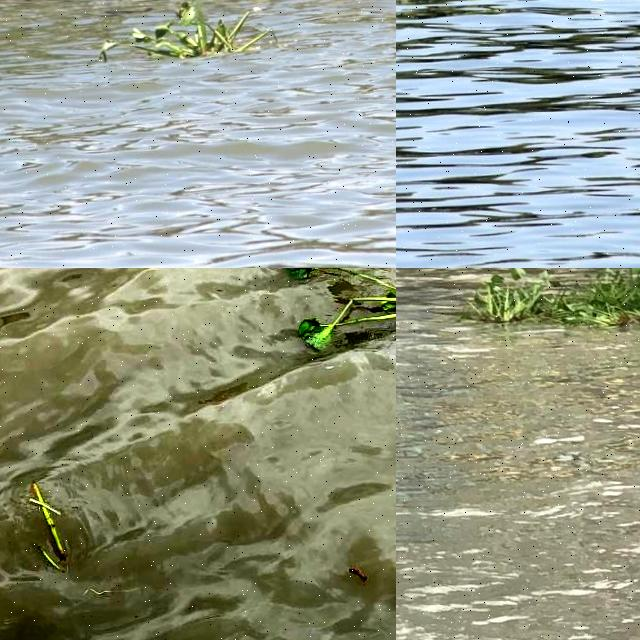water-hyacinth: (92, 1, 280, 60), (472, 269, 640, 330), (279, 269, 397, 352)
